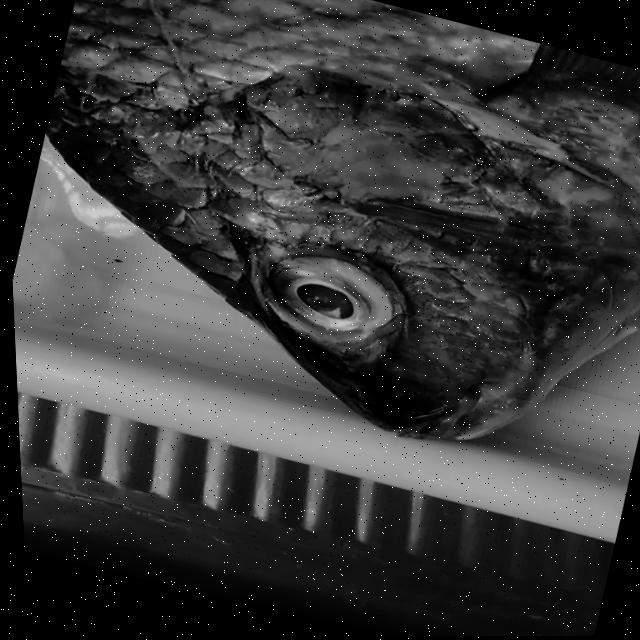Fresh: (43, 0, 640, 261), (208, 225, 435, 380)
